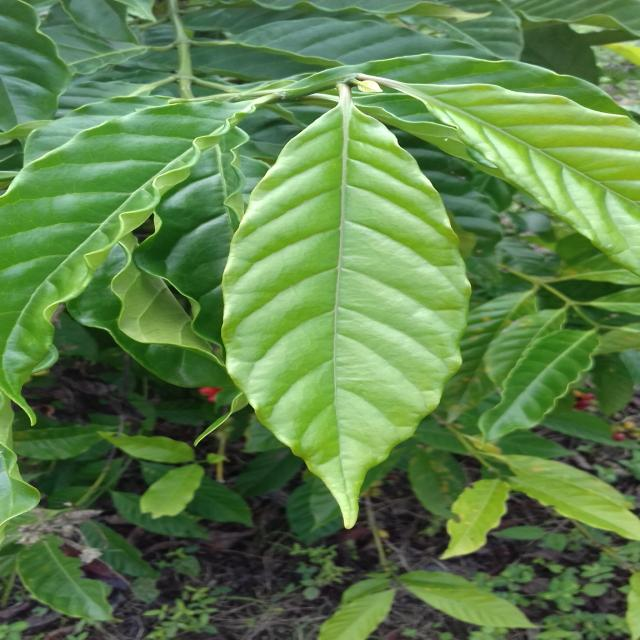Sanas: (220, 86, 468, 532)
